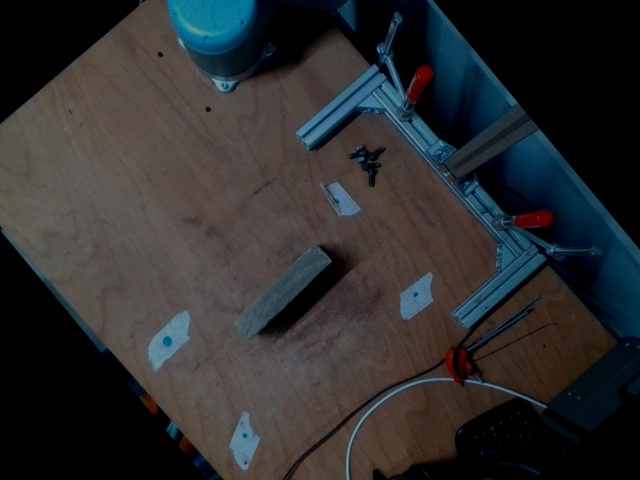brick-side: (236, 242, 331, 339)
